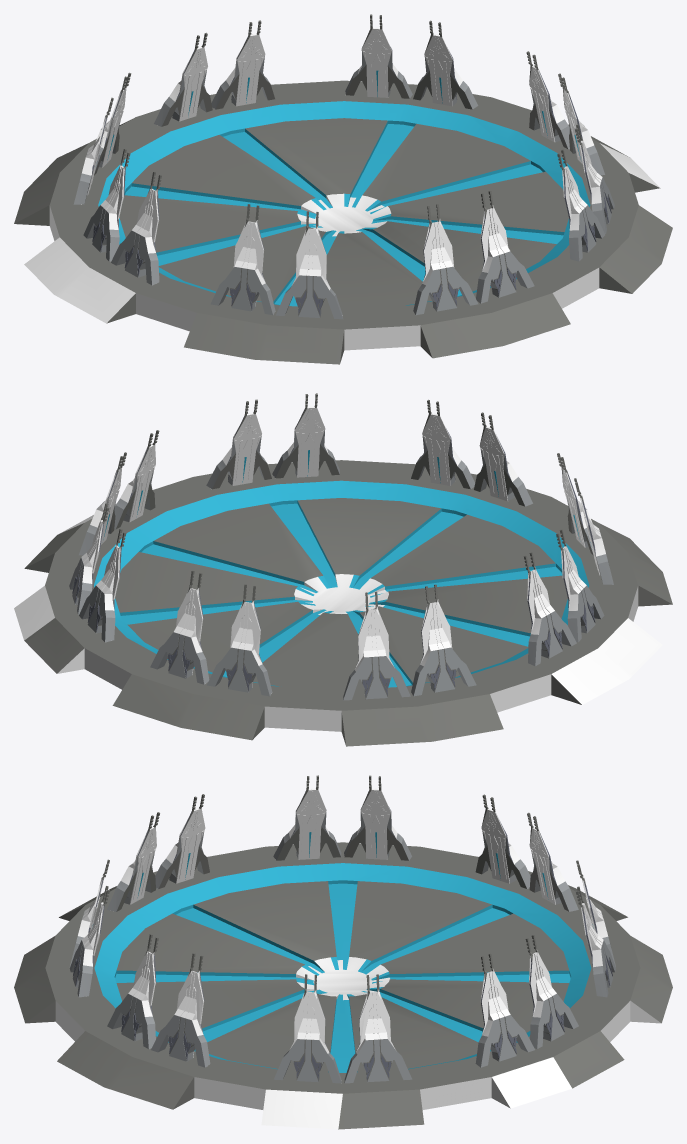
File: PortailJoueur.fbx
3 renders of one model, top to bottom at view 1: azimuth 30°, elevation 25°; view 2: azimuth 150°, elevation 25°; view 3: azimuth 270°, elevation 25°, orthographic.
Visible parts, largest first — view 1: ID520, ID492, instance_2, ID500, ID690, ID2280, ID3300, ID684, ID1416, ID3288, ID678, ID484 (+29 smaller); view 2: ID520, ID492, ID2280, ID678, ID3300, instance_2, ID690, ID3288, ID1416, ID684, ID500, ID484 (+28 smaller); view 3: ID520, ID492, ID3288, ID684, ID690, ID3300, ID678, ID500, ID2280, instance_2, ID2484, ID3156 (+26 smaller).
Part boxes in pixels (x1,y1,x2,y2): ID520: (14, 66, 672, 364); ID492: (98, 101, 590, 306); instance_2: (362, 123, 530, 201); ID500: (245, 118, 387, 195); ID690: (132, 135, 315, 205); ID2280: (388, 171, 568, 231); ID3300: (321, 232, 431, 308); ID684: (119, 195, 300, 252); ID1416: (24, 237, 135, 323); ID3288: (158, 226, 325, 301); ID678: (373, 221, 556, 291); ID484: (297, 193, 391, 236); ID520: (24, 444, 672, 746); ID492: (94, 480, 589, 687); ID2280: (154, 503, 322, 581); ID678: (297, 498, 441, 575); ID3300: (370, 514, 555, 586); instance_2: (115, 552, 297, 612); ID690: (253, 612, 364, 690); ID3288: (385, 575, 567, 633); ID1416: (551, 618, 662, 704); ID684: (360, 606, 528, 682); ID500: (127, 601, 312, 672); ID484: (294, 574, 388, 614); ID520: (14, 826, 672, 1129); ID492: (94, 863, 591, 1072); ID3288: (193, 881, 336, 960); ID684: (349, 881, 491, 960); ID690: (380, 913, 569, 973); ID3300: (116, 913, 304, 973); ID678: (116, 979, 304, 1032); ID500: (381, 979, 569, 1032); ID2280: (207, 993, 336, 1072); instance_2: (349, 994, 478, 1072); ID2484: (420, 1057, 571, 1109); ID3156: (261, 1089, 342, 1129).
Bounding box in the file's own units: 192 × 189 × 36.03.
